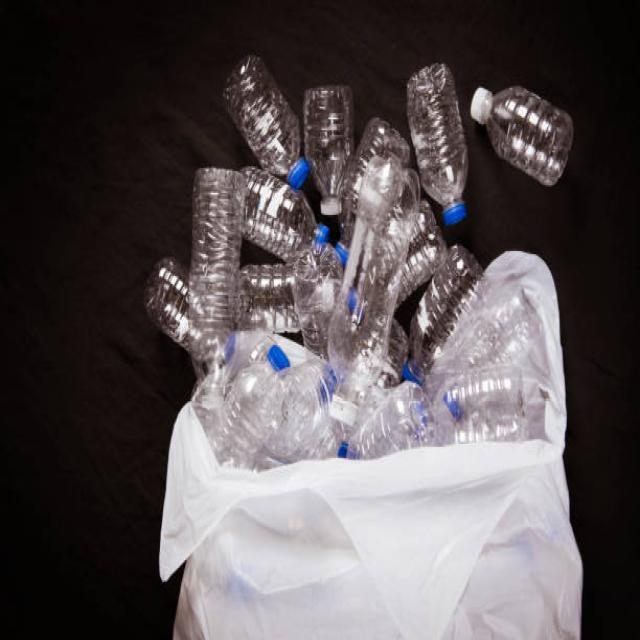plastic: (148, 59, 542, 430)
